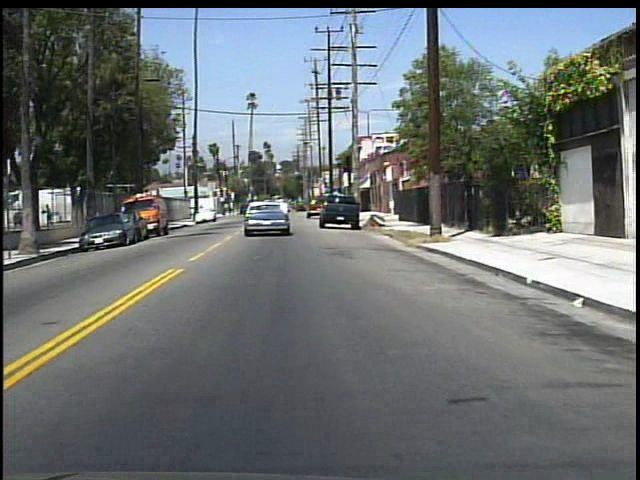person: (44, 201, 57, 233)
